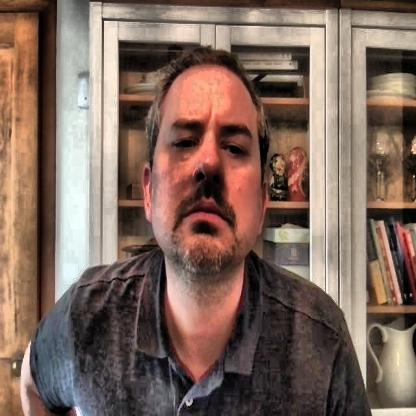not_wear: (156, 56, 261, 236)
